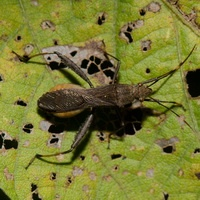insect: (37, 46, 194, 117), (13, 40, 119, 86)
